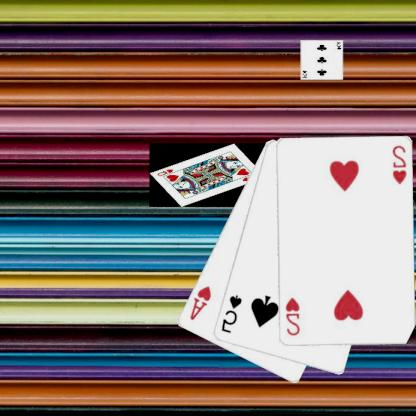2H: (284, 295, 303, 337), (391, 143, 409, 186)
5S: (220, 292, 245, 335)
AH: (188, 283, 214, 322)
